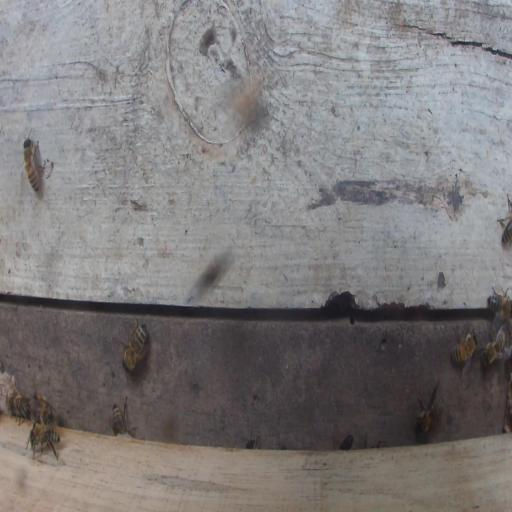nonpollenbee: (415, 383, 443, 434), (25, 422, 61, 460), (122, 322, 148, 373), (450, 327, 479, 368), (482, 328, 505, 366), (487, 284, 511, 320), (497, 192, 512, 247), (24, 138, 39, 192), (112, 404, 126, 435), (10, 397, 30, 418), (33, 408, 53, 425), (338, 435, 353, 450), (245, 435, 260, 449)
